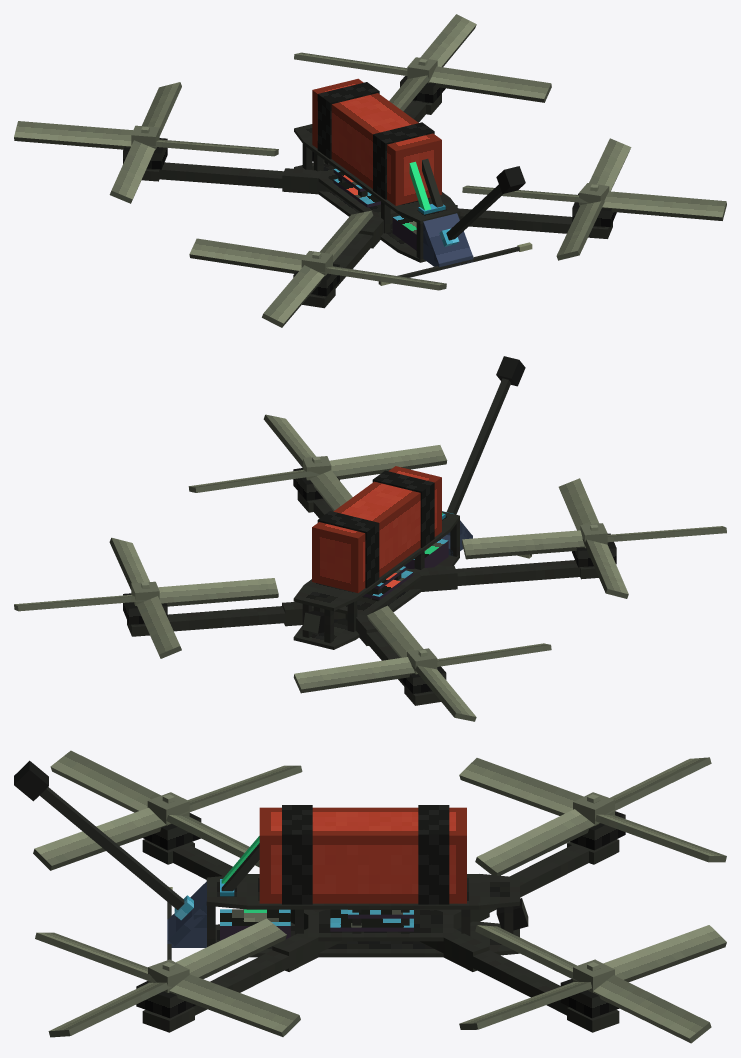
File: fpv_heavy.glb
The picture shows the model from 3 angles, top to bottom: view 1: azimuth 30°, elevation 25°; view 2: azimuth 150°, elevation 25°; view 3: azimuth 270°, elevation 25°; orthographic projection. The views are drawn at different scales.
Parts seen in each view (by area): view 1: airframe, prop4, prop1, prop3, prop2; view 2: airframe, prop1, prop2, prop4, prop3; view 3: airframe, prop1, prop3, prop2, prop4.
Part boxes in pixels (box(x1,y1,x2,y2)): airframe: box(123, 58, 616, 308); prop4: box(189, 210, 446, 327); prop1: box(14, 82, 278, 203); prop3: box(462, 138, 726, 260); prop2: box(294, 14, 551, 111); airframe: box(123, 356, 616, 705); prop1: box(293, 605, 551, 721); prop2: box(14, 537, 278, 658); prop4: box(462, 478, 726, 598); prop3: box(188, 414, 447, 510); airframe: box(14, 760, 625, 1032); prop1: box(459, 757, 726, 875); prop3: box(35, 918, 300, 1037); prop2: box(459, 925, 726, 1043); prop4: box(33, 750, 302, 870).
Bounding box in the file's own units: 0.9419 × 0.2761 × 1.01.
1 material, 1 textured.
